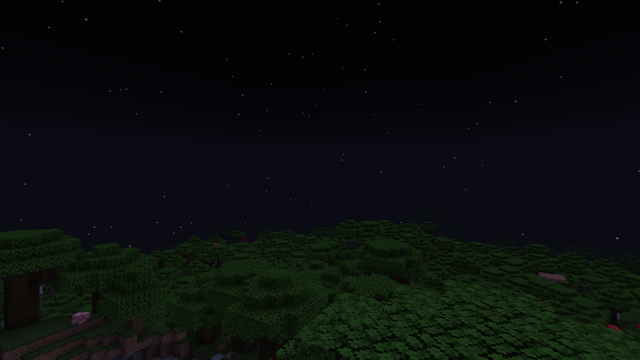cochons: (72, 310, 87, 325)
